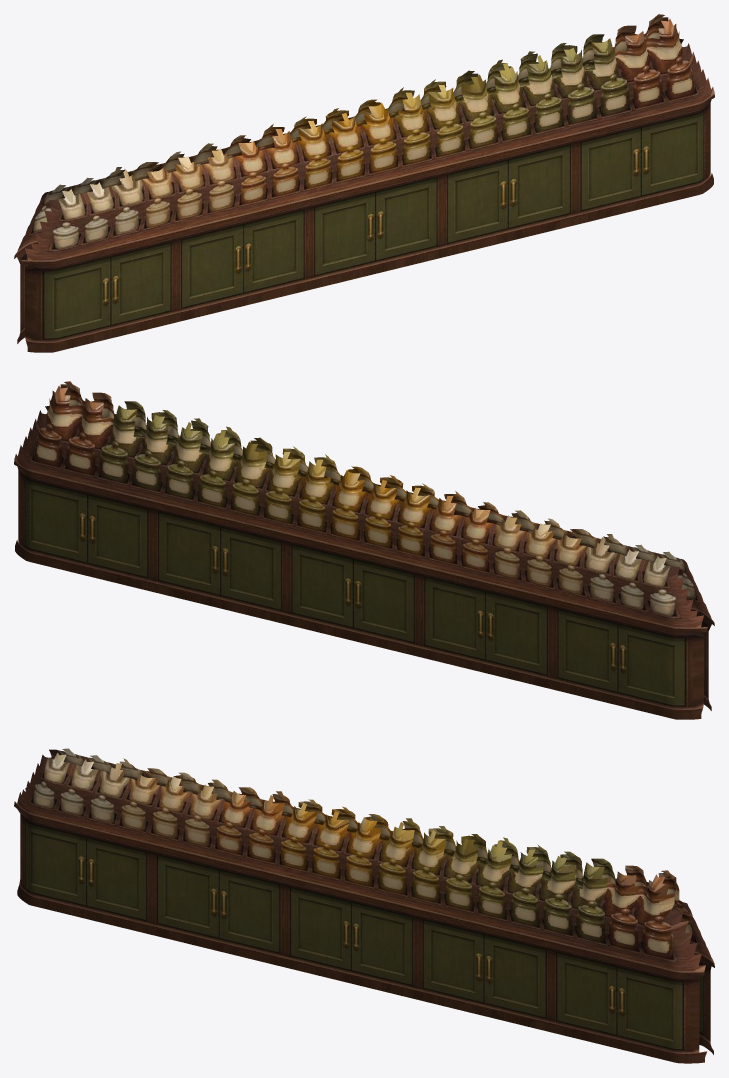
File: v4-alchemist-scatter-display-island.glb
3 views of the same model, one above another, from view 1: azimuth 30°, elevation 25°; view 2: azimuth 150°, elevation 25°; view 3: azimuth 330°, elevation 25° (orthographic).
Visible parts, largest first — view 1: v4-alchemist-scatter-display-island; view 2: v4-alchemist-scatter-display-island; view 3: v4-alchemist-scatter-display-island.
Boxes of the visible parts, x1,y1,x2,y2 form: v4-alchemist-scatter-display-island: [14, 14, 714, 352]; v4-alchemist-scatter-display-island: [14, 381, 714, 719]; v4-alchemist-scatter-display-island: [14, 748, 714, 1063].
Size of the model in its own units: 3.94 by 0.9474 by 0.24.
1 material, 1 textured.
